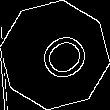O_SW: (22, 22, 88, 88)
